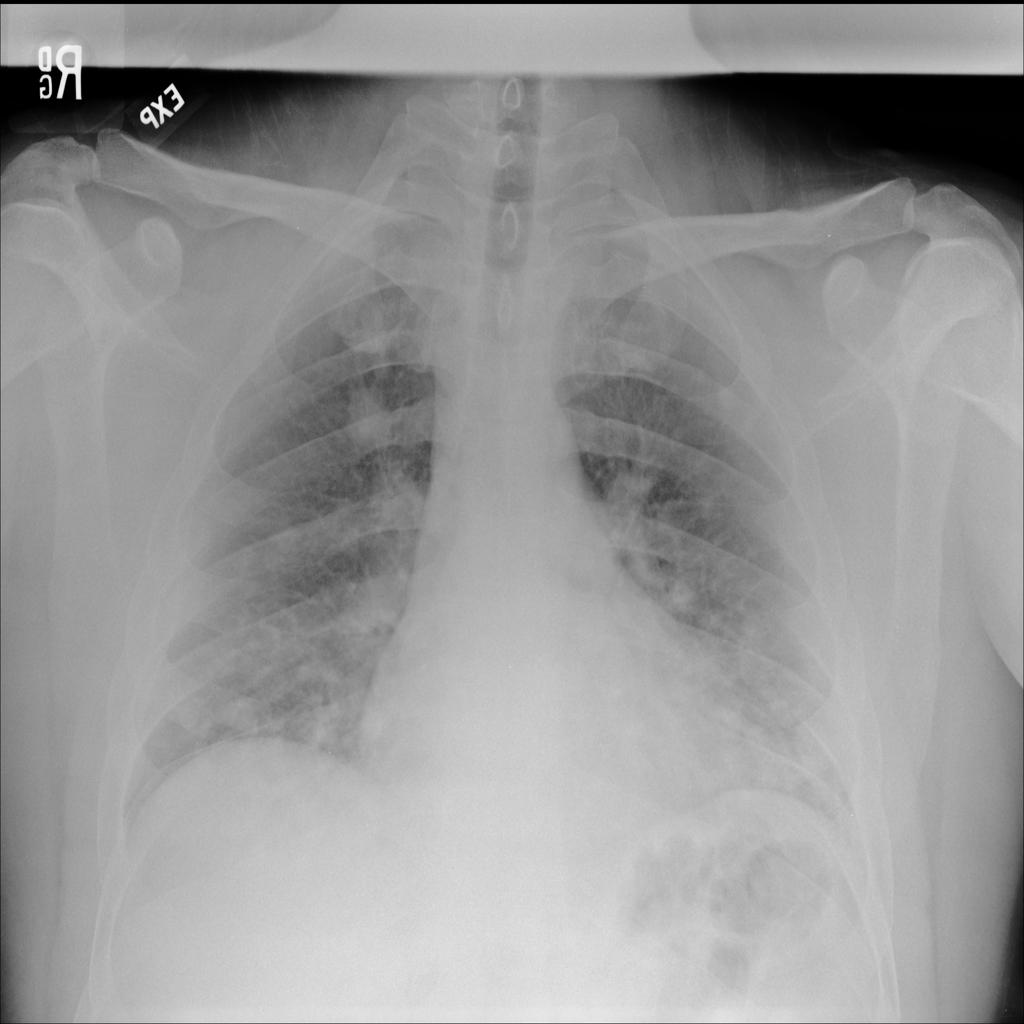nodule: (336, 373, 408, 458), (731, 714, 801, 796), (290, 682, 355, 765), (203, 676, 273, 753), (647, 554, 714, 629), (157, 672, 223, 747)
